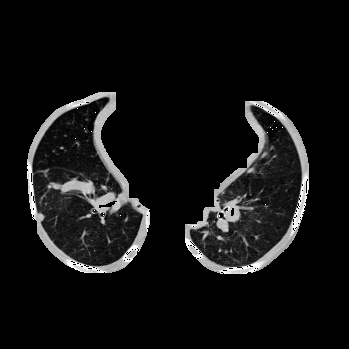PN: (37, 213, 45, 221)
